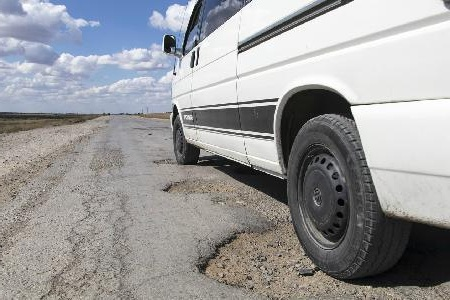pothole: (191, 217, 334, 296), (161, 175, 237, 196), (152, 156, 180, 166)
